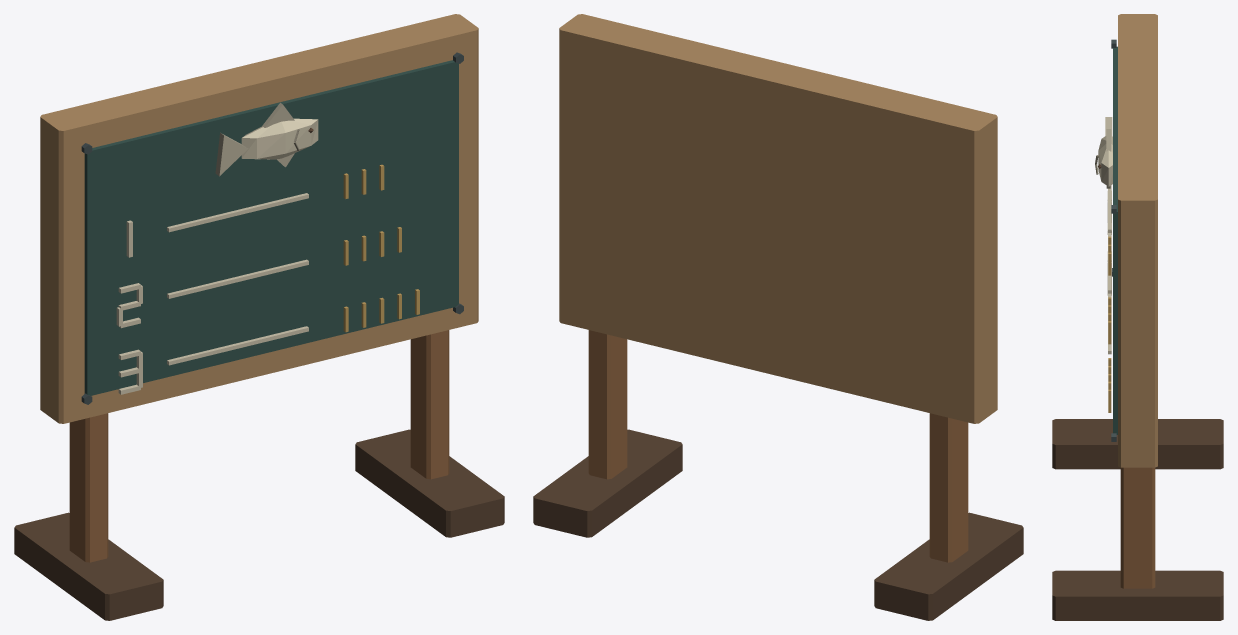
File: fishfest_scoreboard.glb
The picture shows the model from 3 angles, left to right: view 1: azimuth 30°, elevation 25°; view 2: azimuth 150°, elevation 25°; view 3: azimuth 270°, elevation 25°; orthographic projection. The views are drawn at different scales.
Parts seen in each view (by area): view 1: geometry; view 2: geometry; view 3: geometry.
Boxes of the visible parts, box(x1,y1,x2,y2) form: geometry: box(14, 14, 504, 620); geometry: box(533, 14, 1023, 620); geometry: box(1052, 14, 1223, 620).
Size of the model in its own units: 1.65 by 1.75 by 0.64.
